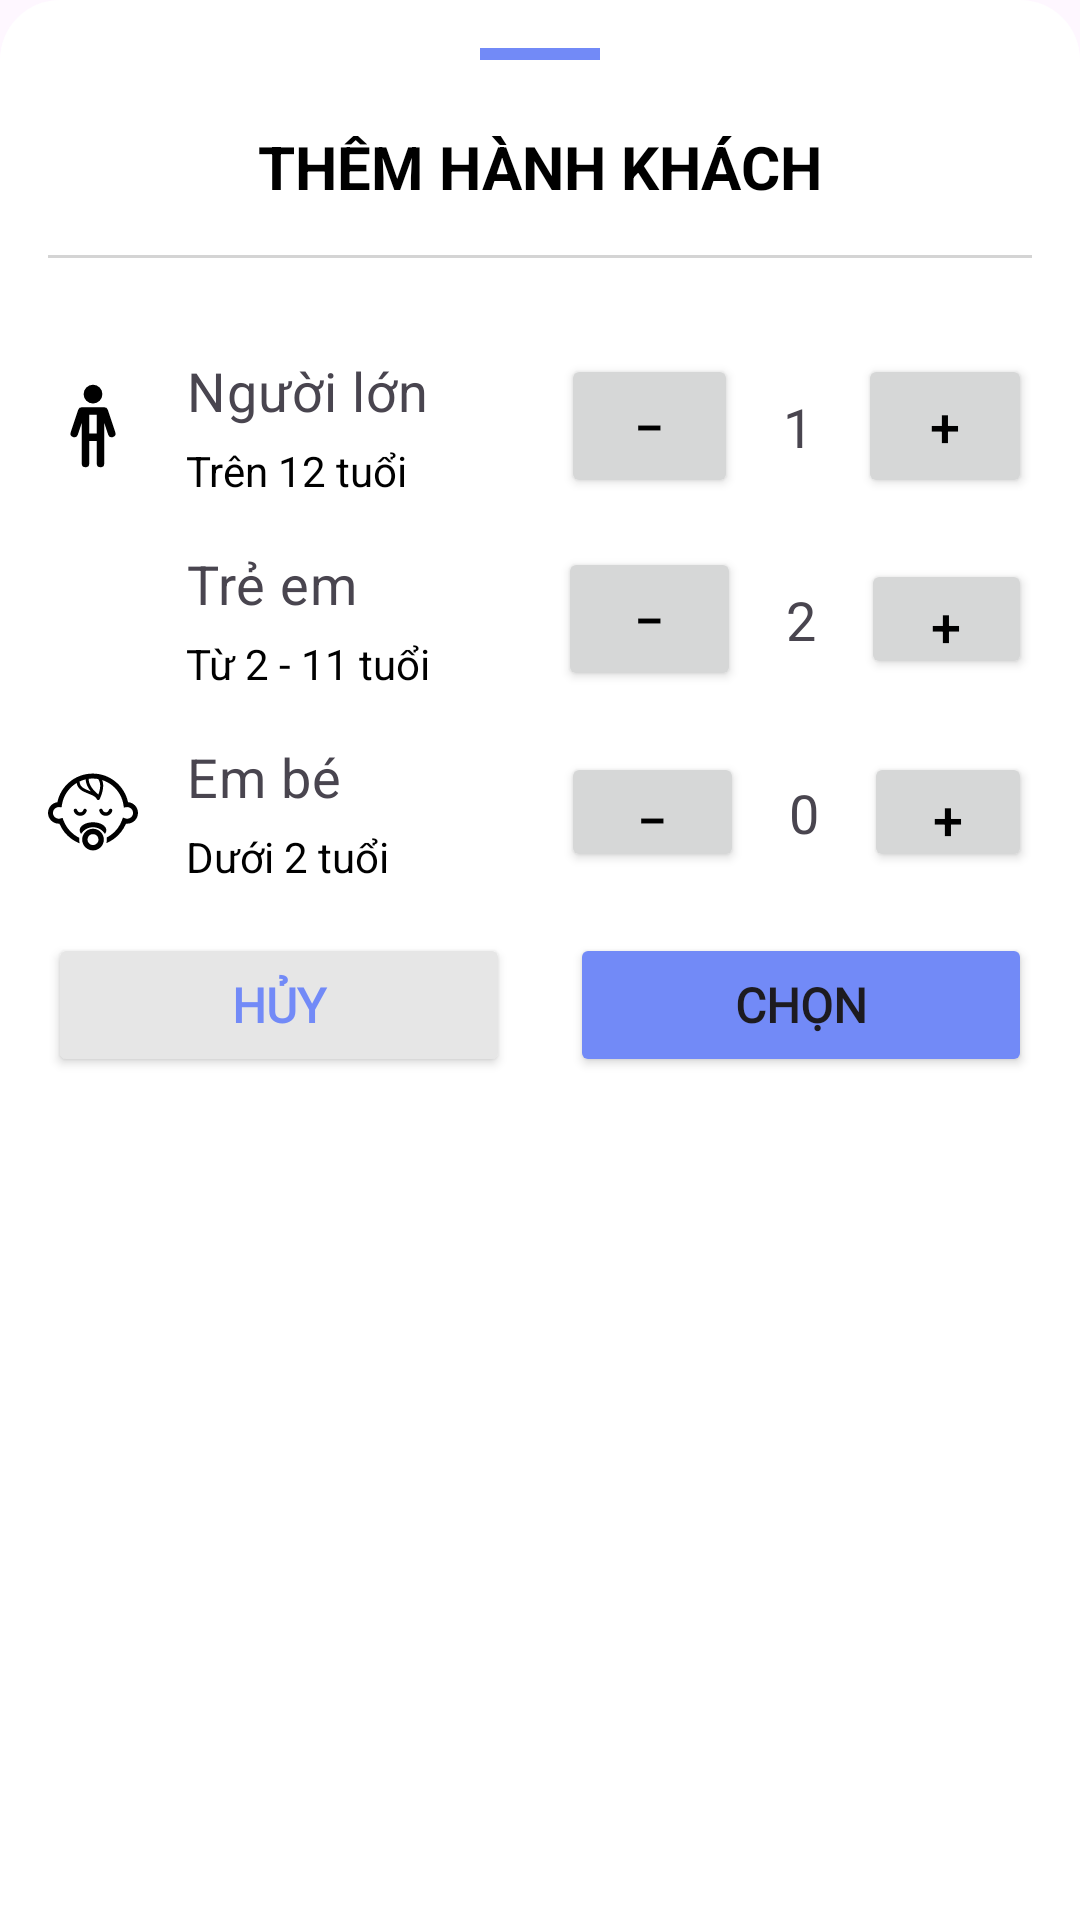

Named icons in this screenshot (1080px×1920px) and their centers, point (x, y):
baby: point (93, 812)
people: point (93, 426)
